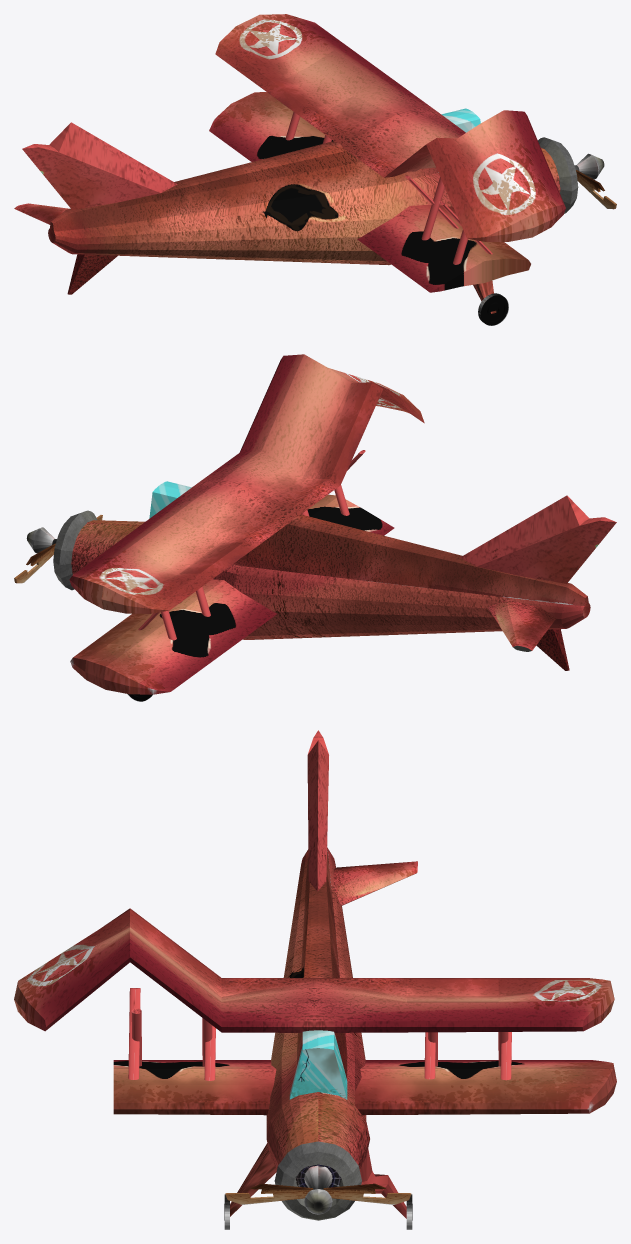
The model's file is avion_semestre.fbx.
3 renders of one model, top to bottom at view 1: azimuth 30°, elevation 25°; view 2: azimuth 150°, elevation 25°; view 3: azimuth 270°, elevation 25°, orthographic. The views are drawn at different scales.
Parts seen in each view (by area): view 1: Avion; view 2: Avion; view 3: Avion.
Part boxes in pixels (x1,y1,x2,y2): Avion: (14, 14, 616, 325); Avion: (14, 354, 616, 701); Avion: (14, 730, 616, 1229).
Size of the model in its own units: 948 by 413 by 787.
